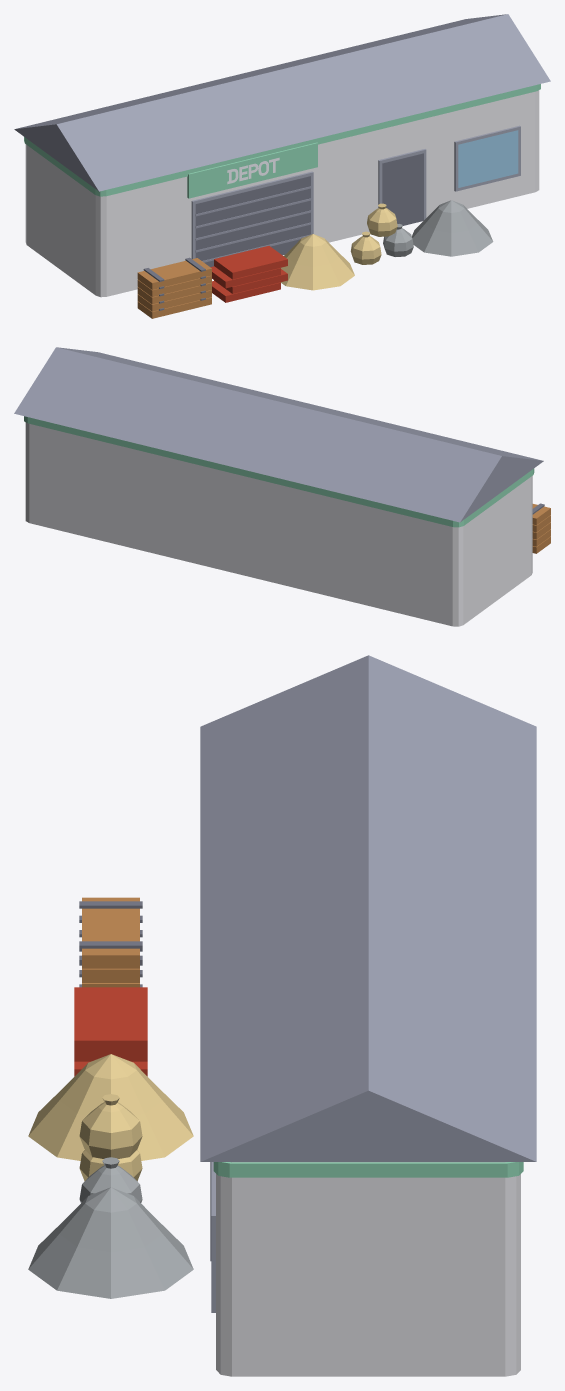
Rendered from depot-2x1-t5-tone-a.glb.
The picture shows the model from 3 angles, top to bottom: view 1: azimuth 30°, elevation 25°; view 2: azimuth 150°, elevation 25°; view 3: azimuth 270°, elevation 25°; orthographic projection. The views are drawn at different scales.
Visible parts, largest first — view 1: depot-2x1-t5-tone-a; view 2: depot-2x1-t5-tone-a; view 3: depot-2x1-t5-tone-a.
Part boxes in pixels (left/top/right/bottom): depot-2x1-t5-tone-a: left=14, top=14, right=550, bottom=318; depot-2x1-t5-tone-a: left=14, top=347, right=550, bottom=626; depot-2x1-t5-tone-a: left=28, top=655, right=536, bottom=1376.
Size of the model in its own units: 1.96 by 0.61 by 0.9676.
1 material, 1 textured.
